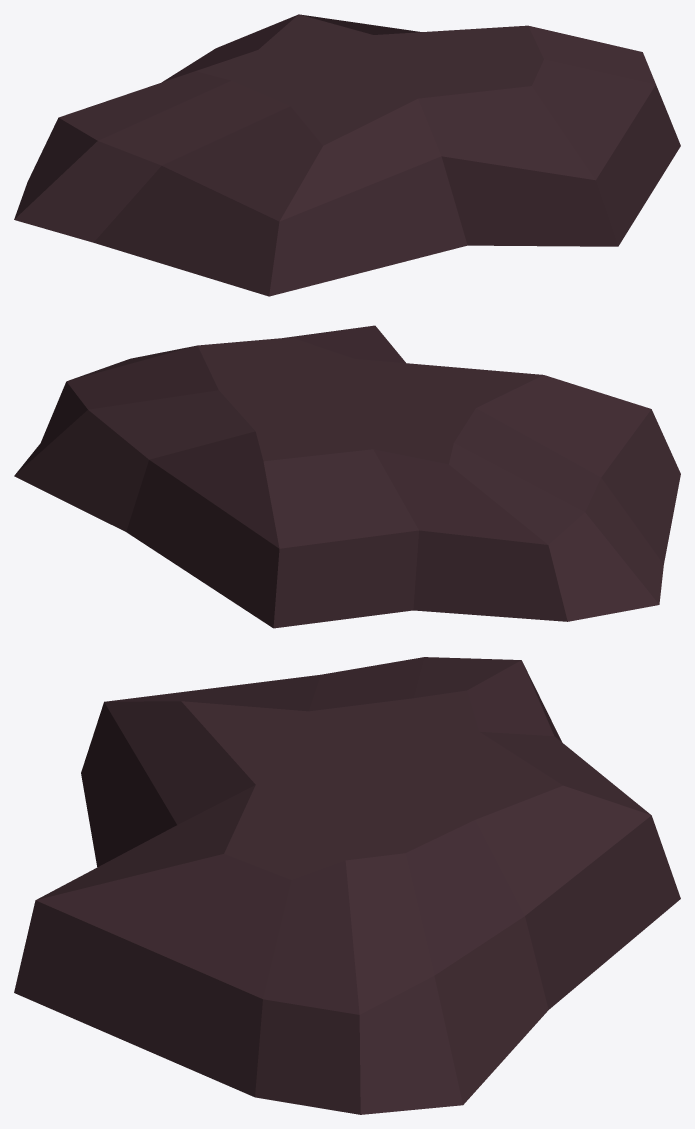
The model's file is rock-1.fbx.
The picture shows the model from 3 angles, top to bottom: view 1: azimuth 30°, elevation 25°; view 2: azimuth 150°, elevation 25°; view 3: azimuth 270°, elevation 25°; orthographic projection. The views are drawn at different scales.
Visible parts, largest first — view 1: Rock 2.002; view 2: Rock 2.002; view 3: Rock 2.002.
Boxes of the visible parts, x1=… form: Rock 2.002: x1=14, y1=14, x2=680, y2=296; Rock 2.002: x1=14, y1=325, x2=680, y2=628; Rock 2.002: x1=14, y1=657, x2=680, y2=1114.
Size of the model in its own units: 540 by 106 by 384.
